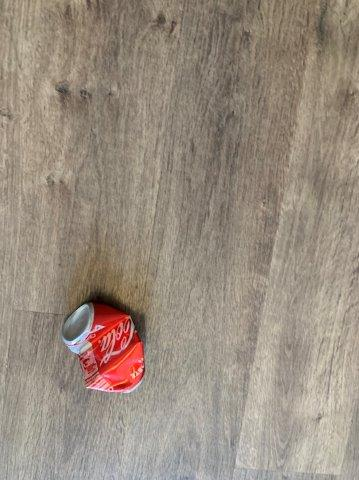kaleng: (64, 302, 145, 391)
